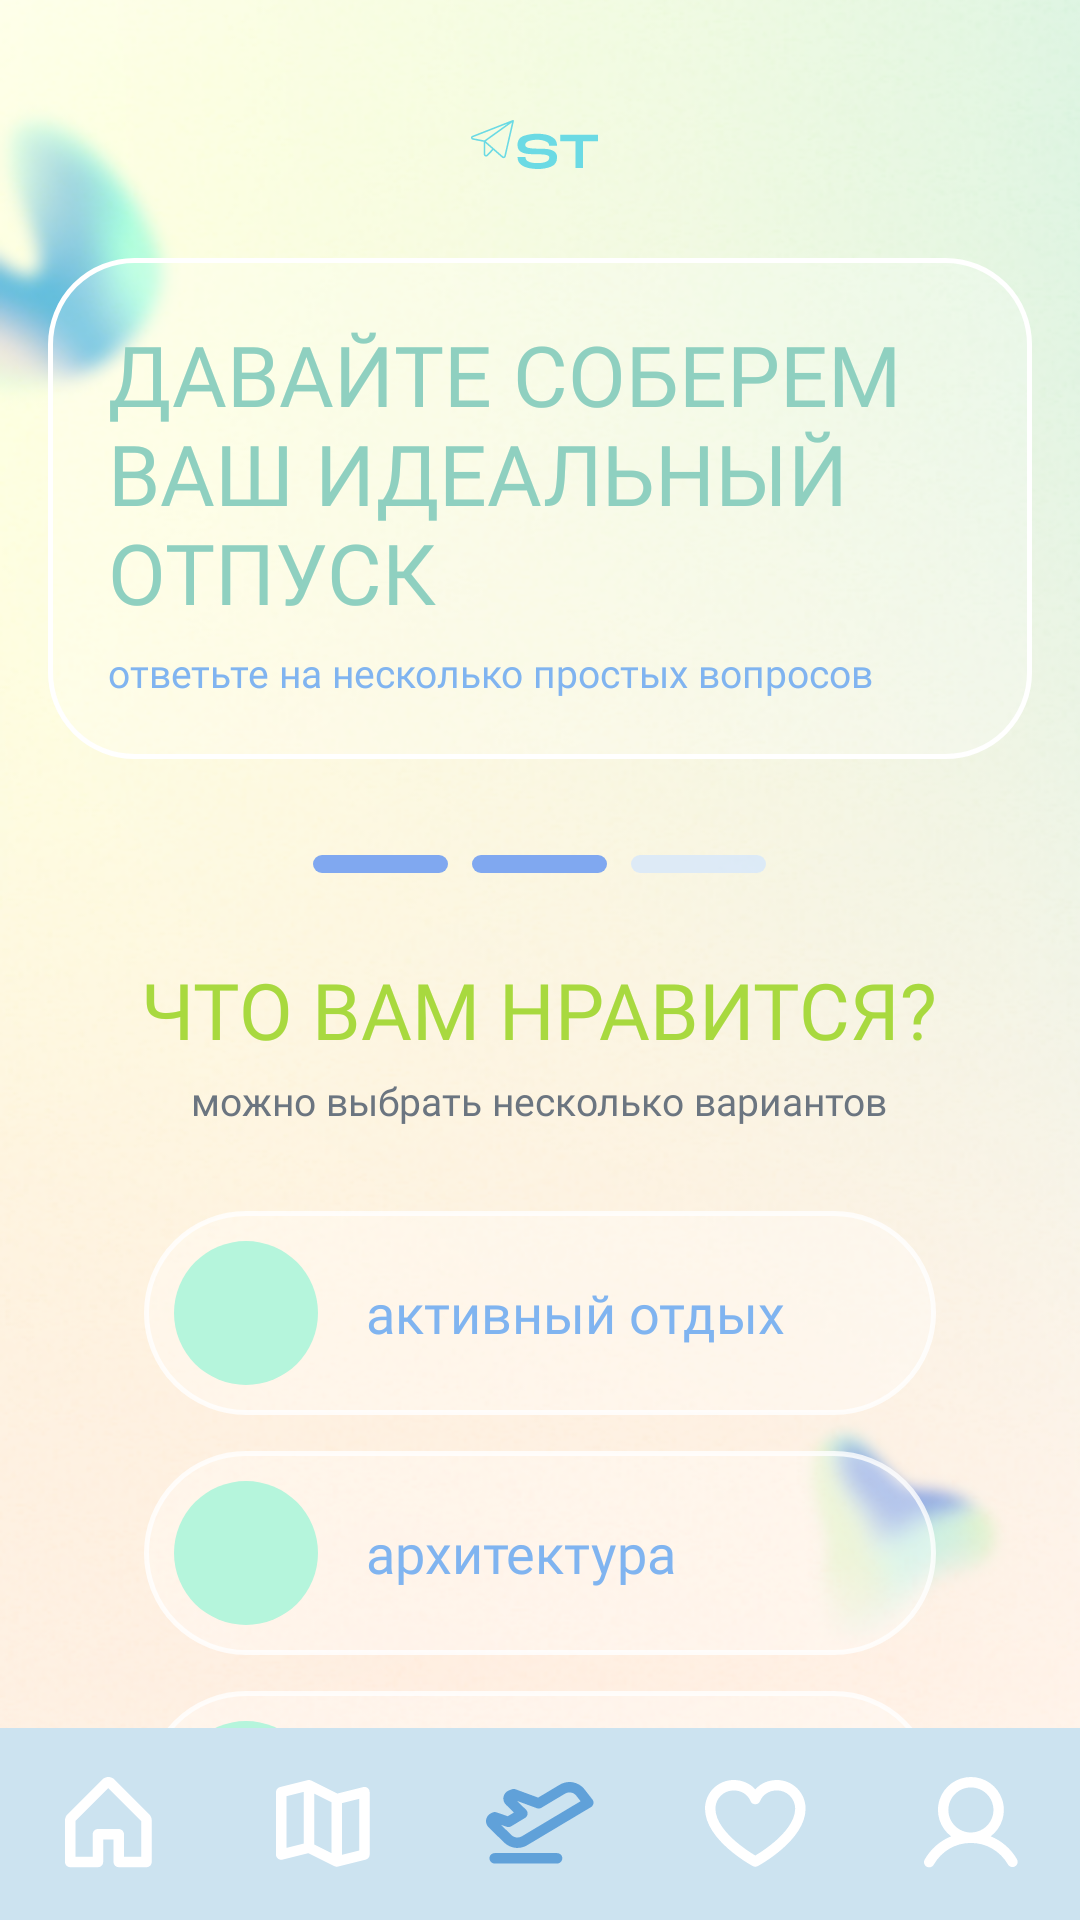

Named icons in this screenshot (1080 x 1920) and their centers, [x,y]:
heart: [755,1823]
house: [108,1822]
map: [323,1823]
plane: [540,1823]
user: [971,1822]
